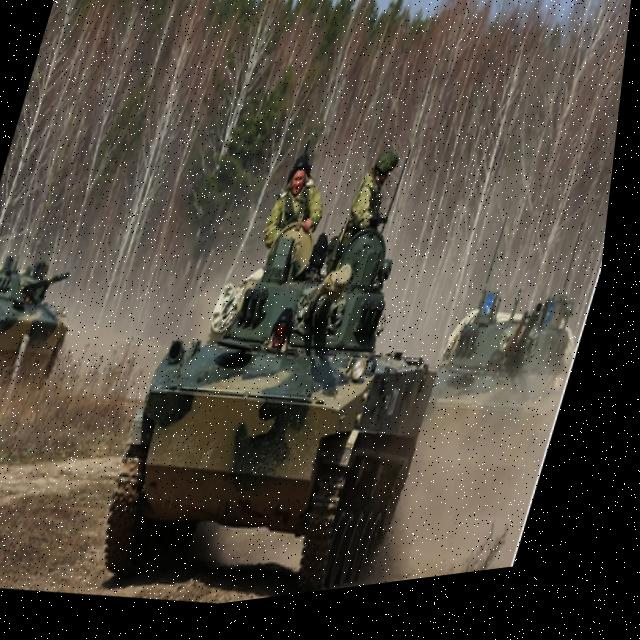MIL_APC: (92, 206, 480, 625), (0, 233, 116, 421)
